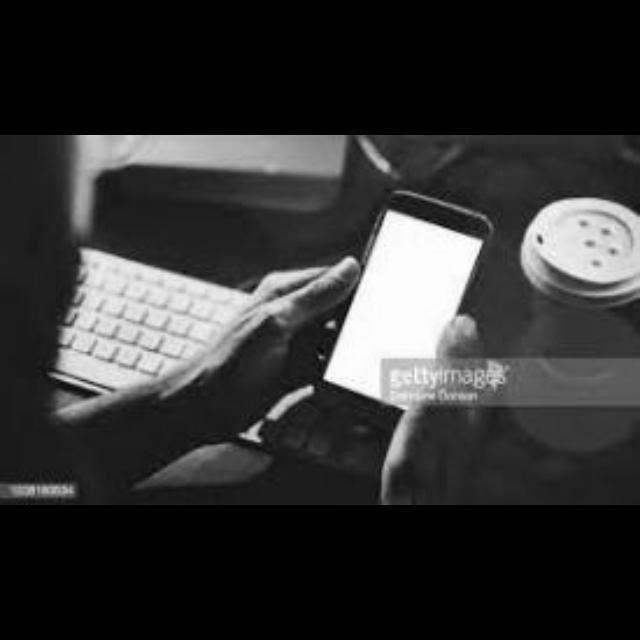fake: (263, 184, 558, 450)
